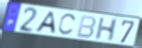2: (17, 6, 39, 34)
7: (120, 19, 135, 44)
A: (34, 11, 57, 35)
B: (75, 14, 97, 40)
C: (57, 13, 78, 37)
H: (94, 17, 120, 42)
